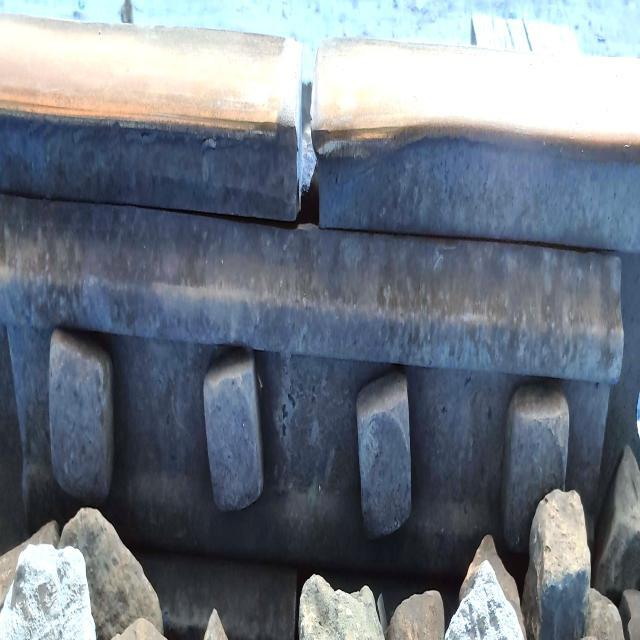Good Joint: (6, 193, 619, 604)
